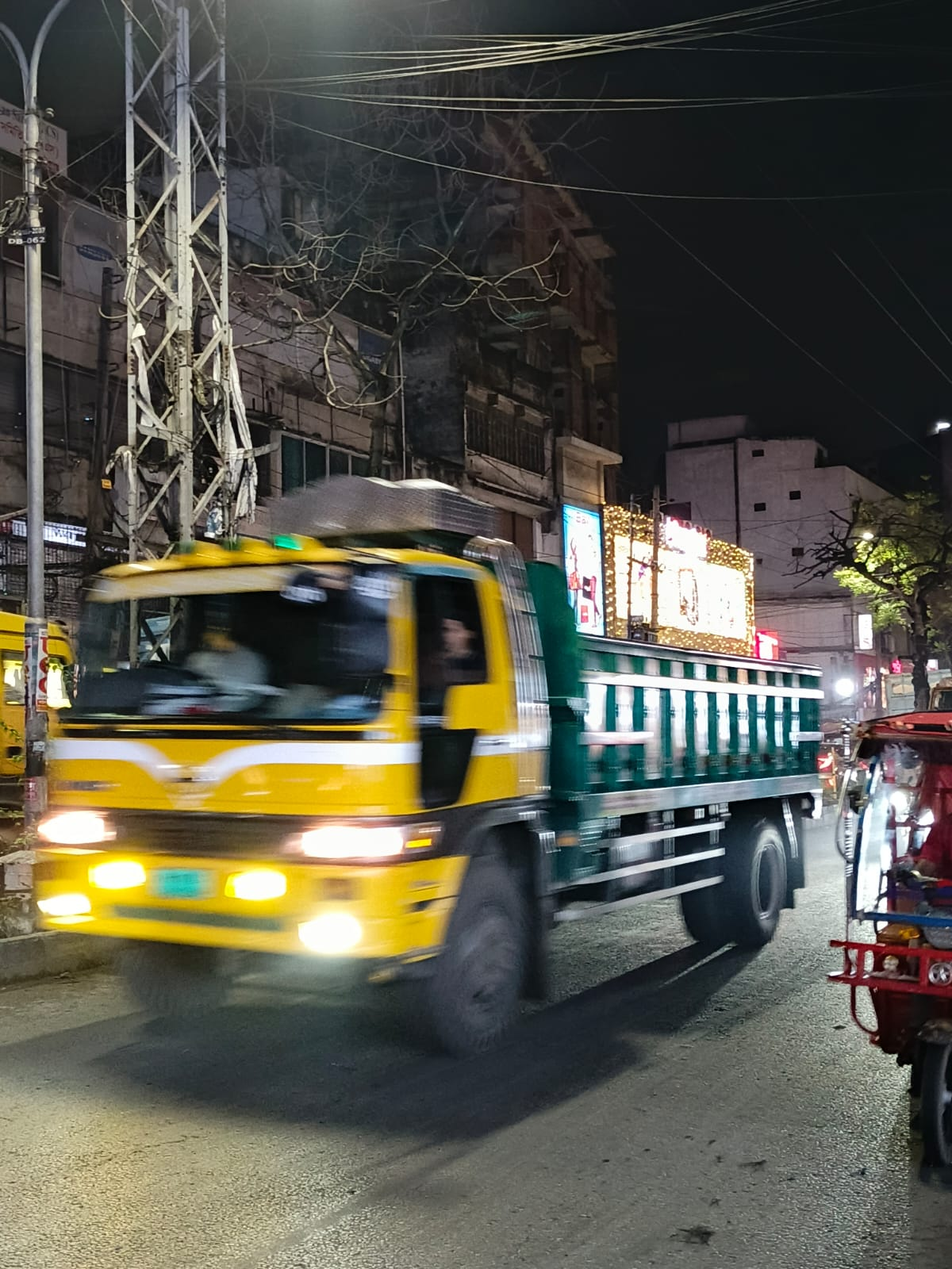Truck: (8, 449, 830, 1076)
